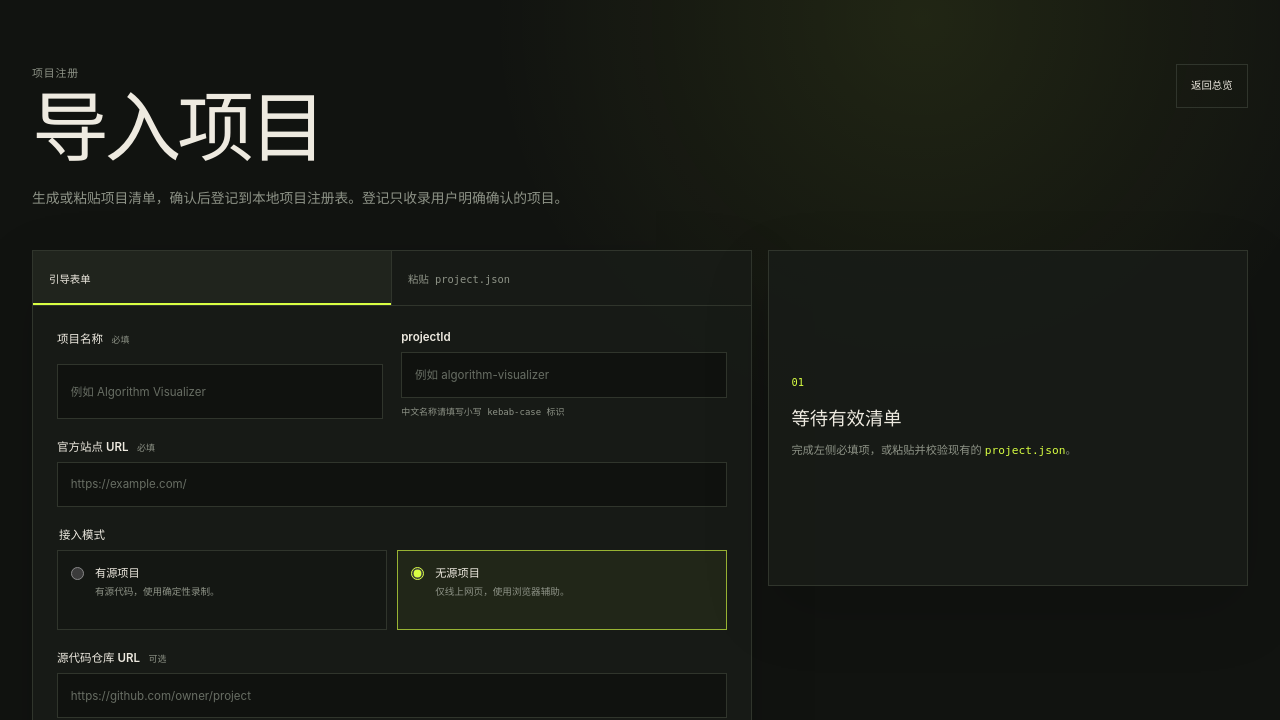
Scenario: project import page › requires an explicit kebab-case project id when a Chinese name cannot be derived
Type "算法可视化器" into the field with test id "import-name".
click(220, 392); type("算法可视化器")  # box [57, 364, 383, 419]
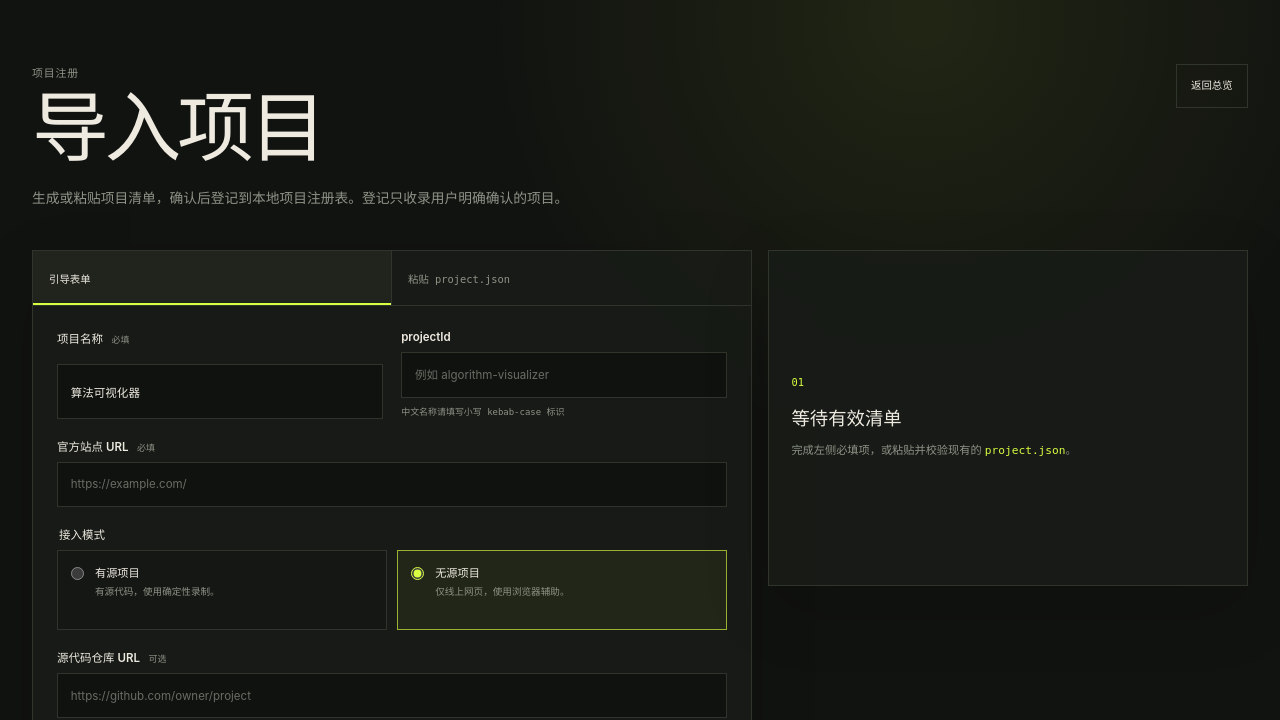
Type "https://demo.example.com/" into the field with test id "import-url".
click(392, 484); type("https://demo.example.com/")  # box [57, 462, 727, 507]
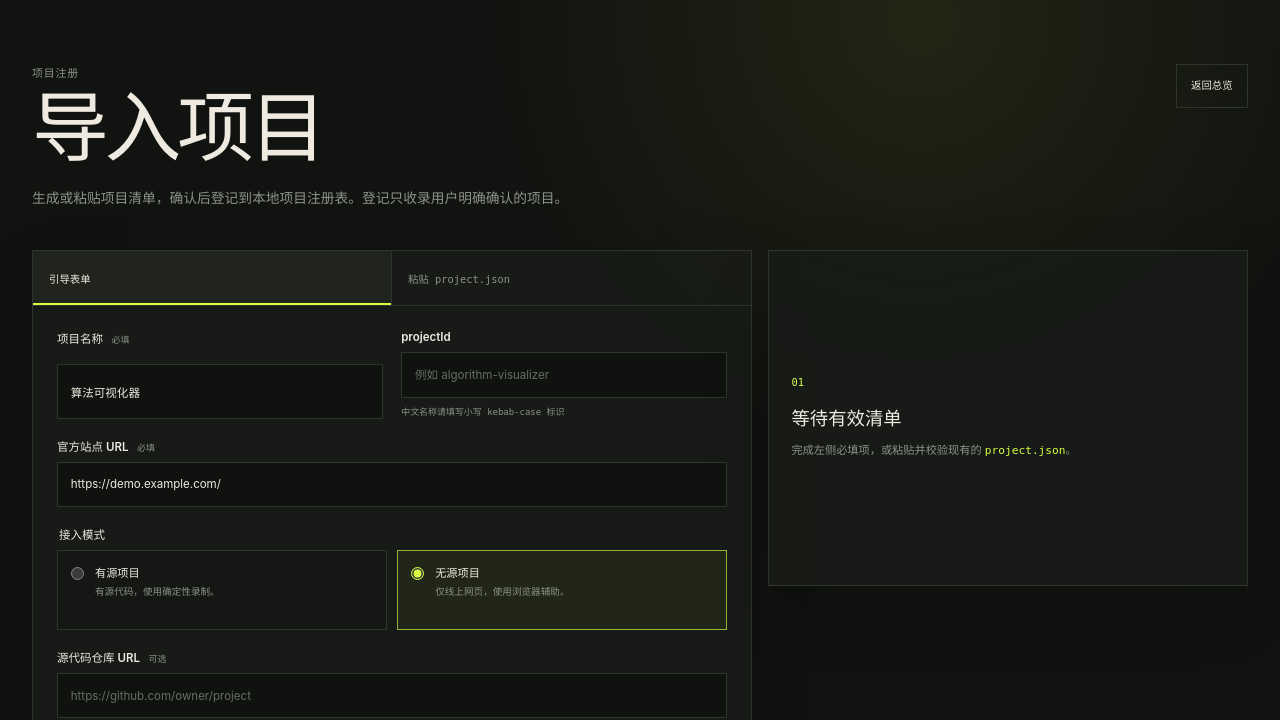
Type "algorithm-visualizer" into the field with test id "import-project-id".
click(564, 375); type("algorithm-visualizer")  # box [401, 352, 727, 398]
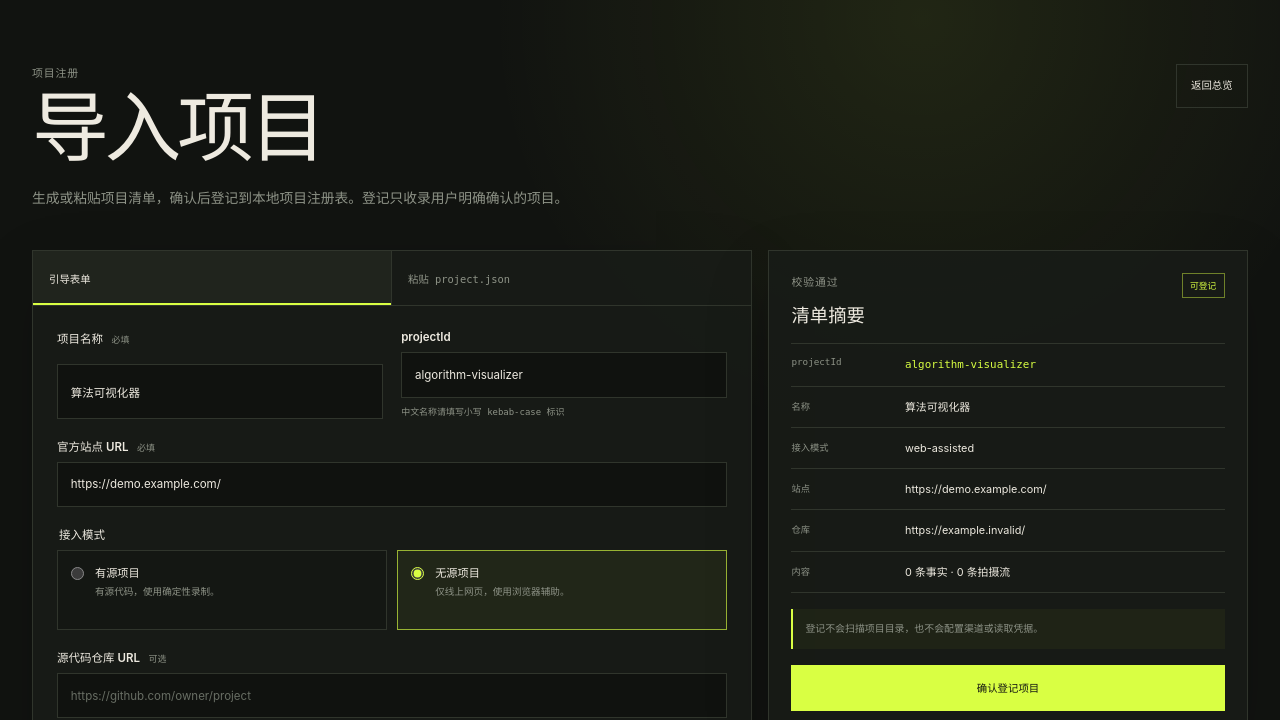
Expected: the element with test id "preview-project-id" reads "algorithm-visualizer", [905, 358, 1036, 371]
